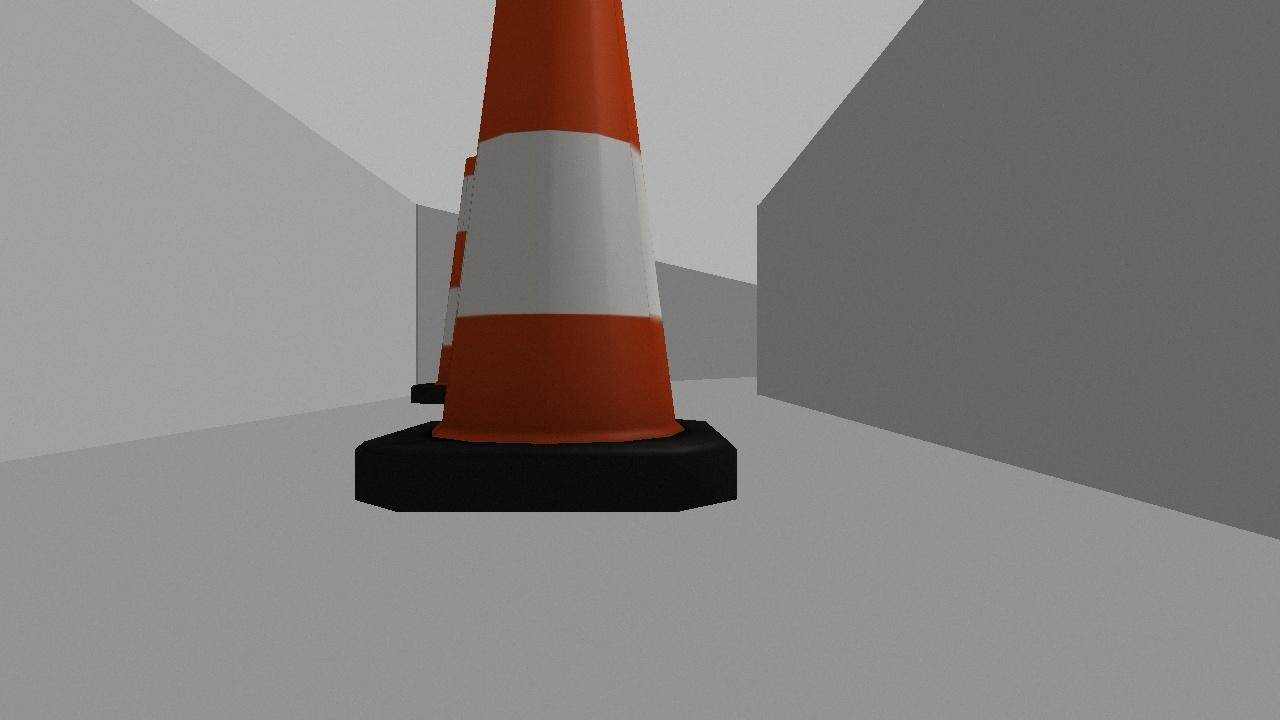cone_barrel: (336, 0, 762, 524), (405, 149, 525, 408)
